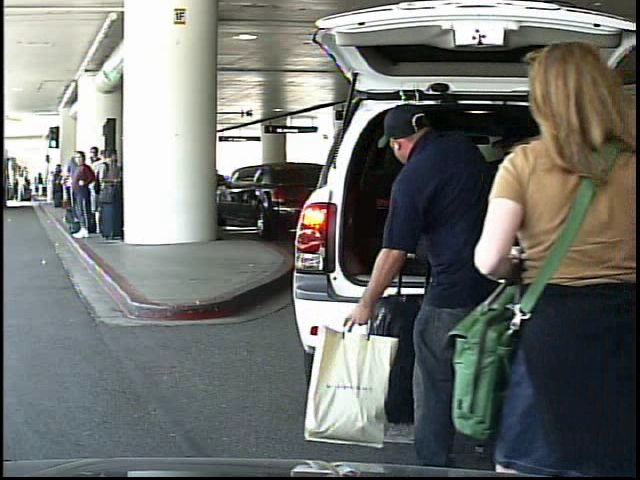person: (351, 101, 551, 470), (17, 174, 28, 205), (35, 172, 46, 199)
